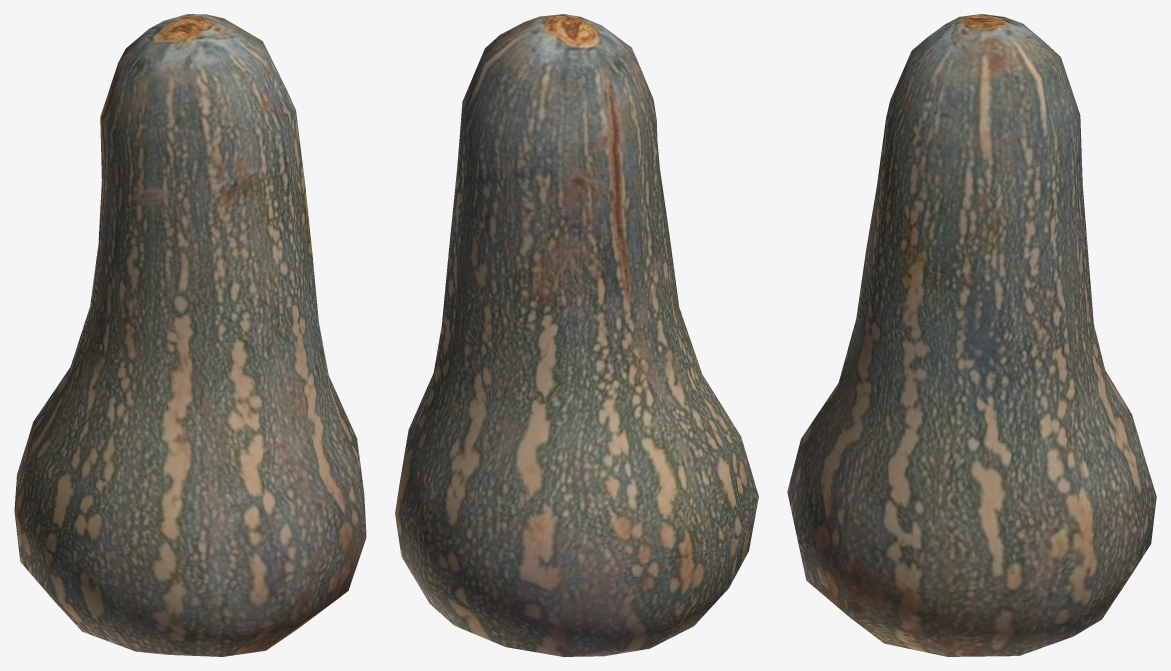
The model's file is A10_Squash_low.fbx.
3 views of the same model, side by side, from view 1: azimuth 30°, elevation 25°; view 2: azimuth 150°, elevation 25°; view 3: azimuth 270°, elevation 25° (orthographic).
Parts seen in each view (by area): view 1: A10_Squash_low; view 2: A10_Squash_low; view 3: A10_Squash_low.
Boxes of the visible parts, bbox=[...] form: A10_Squash_low: bbox=[14, 14, 366, 656]; A10_Squash_low: bbox=[395, 14, 758, 656]; A10_Squash_low: bbox=[787, 14, 1156, 656].
Bounding box in the file's own units: 14.24 × 14.68 × 26.41.
Materials: 1 (1 with a texture image).
